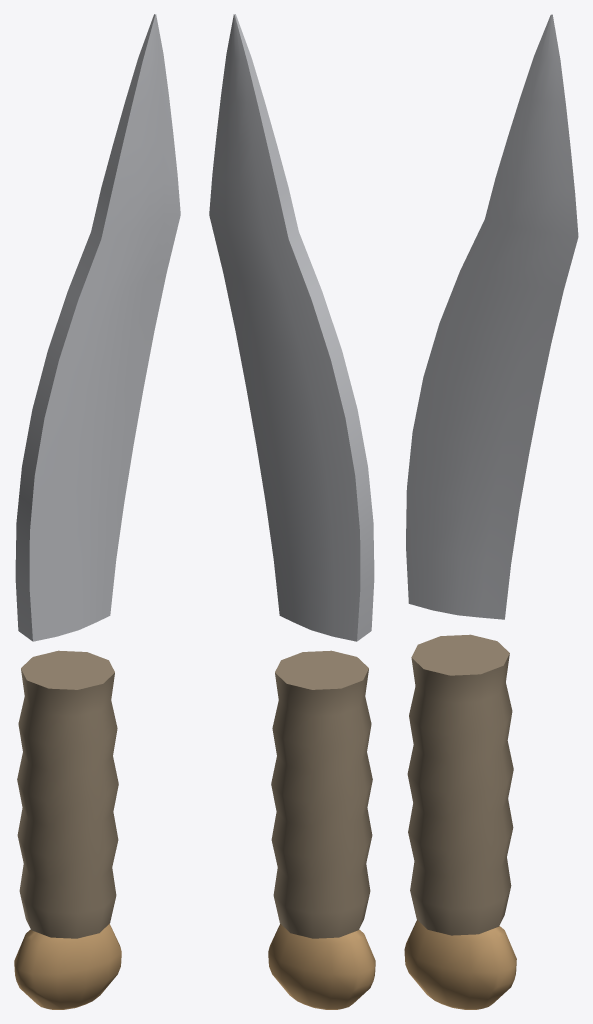
The model's file is skinning_knife.glb.
3 views of the same model, side by side, from view 1: azimuth 30°, elevation 25°; view 2: azimuth 150°, elevation 25°; view 3: azimuth 330°, elevation 25° (orthographic). The views are drawn at different scales.
Visible parts, largest first — view 1: skinning_knife; view 2: skinning_knife; view 3: skinning_knife.
Boxes of the visible parts, x1,y1,x2,y2 form: skinning_knife: [14, 14, 180, 1009]; skinning_knife: [209, 14, 375, 1009]; skinning_knife: [404, 14, 578, 1009].
Size of the model in its own units: 0.0577 by 0.3282 by 0.0299.
